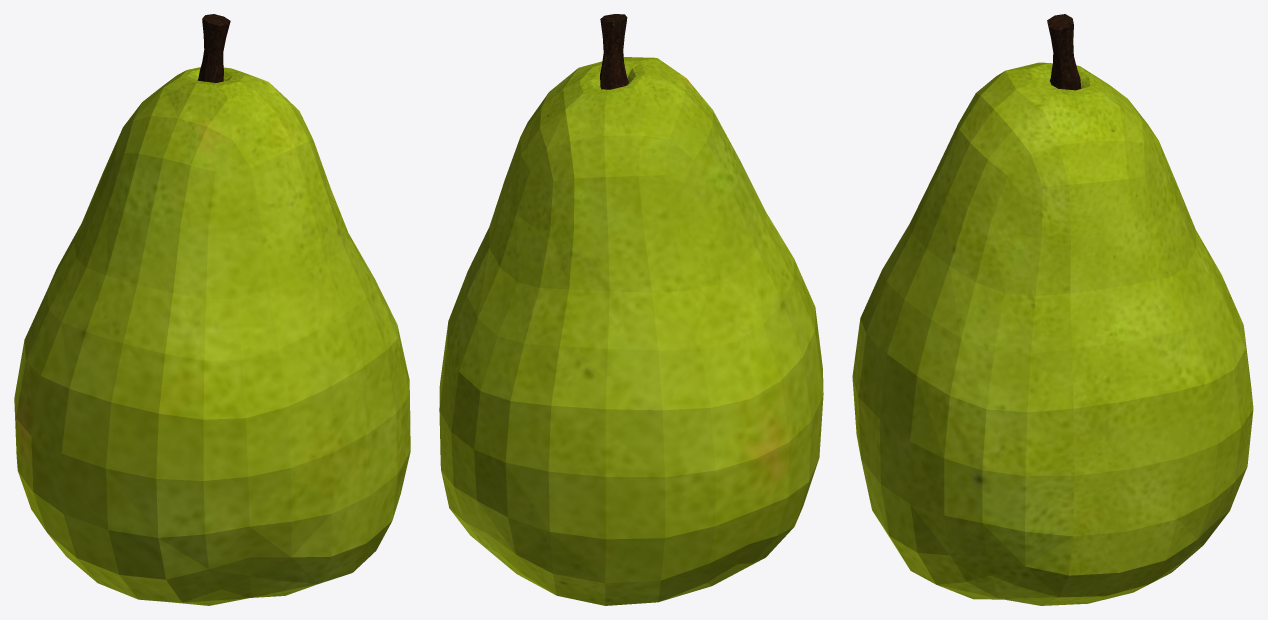
The model's file is pear.dae.
3 renders of one model, left to right at view 1: azimuth 30°, elevation 25°; view 2: azimuth 150°, elevation 25°; view 3: azimuth 270°, elevation 25°, orthographic.
Parts seen in each view (by area): view 1: pear01; view 2: pear01; view 3: pear01.
Part boxes in pixels (box(x1,y1,x2,y2)): pear01: box(14, 14, 410, 605); pear01: box(439, 14, 823, 605); pear01: box(852, 14, 1253, 605).
Bounding box in the file's own units: 2 × 2.01 × 3.07.
Materials: 2 (1 with a texture image).
